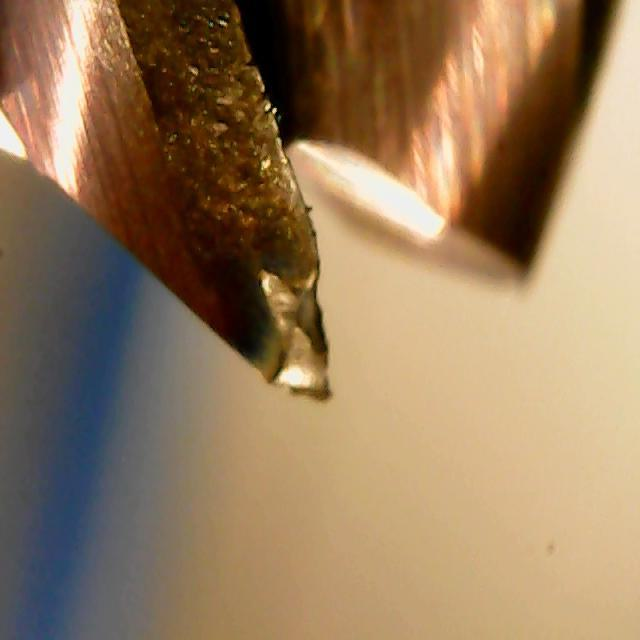Tool-wear-class-2: (155, 46, 345, 413)
